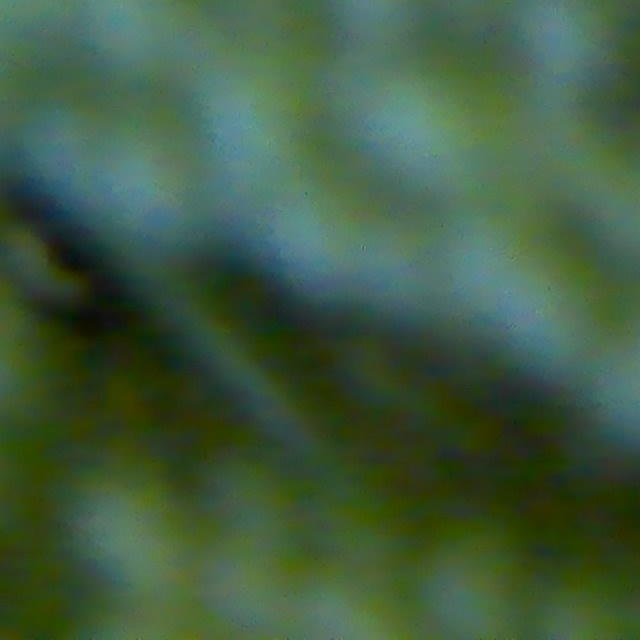SeaGrape: (69, 121, 222, 261), (399, 62, 546, 197), (70, 467, 201, 603), (246, 185, 393, 303), (469, 233, 593, 368), (511, 0, 617, 109)
